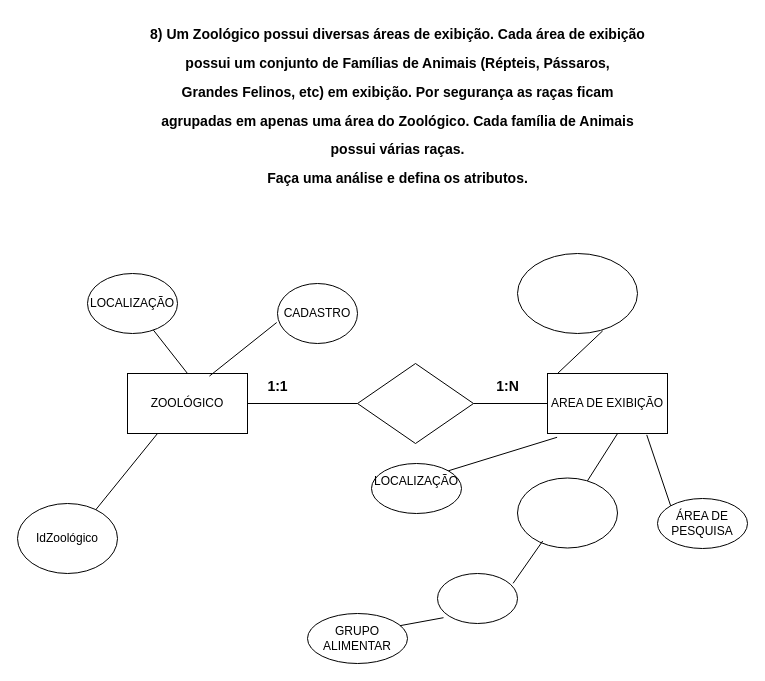
This 765x681 diagram has some shape labels left out. The shapes that lost their labels are listed below. From the top down, each one's box as (x1, y1, x2, y2) in pixels, then its label:
(516, 252, 638, 334): IdAreadeExibição
(356, 362, 474, 444): POSSUI
(516, 477, 618, 548): FAMÍLIA DE ANIMAIS
(436, 572, 518, 624): ESPÉCIES
